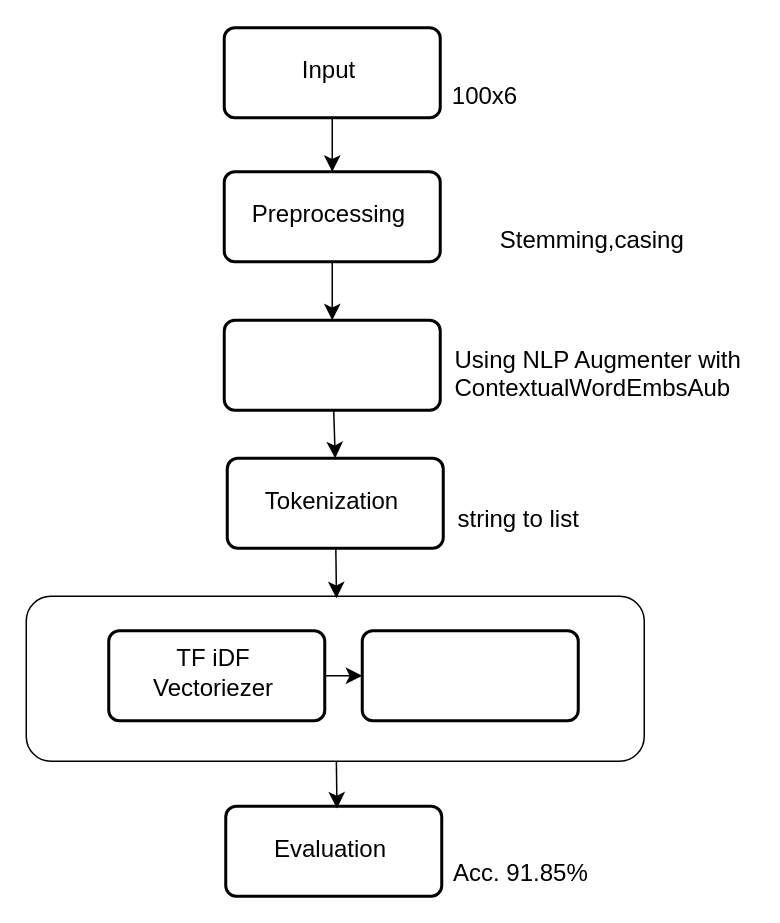
Some shapes in this 780 by 923 pixel diagram are drawn without their labels. Here are the shapes that lost their labels. From the top down, the centre of each, then its label:
At point 331,364: "Data Augmentation".
At point 469,675: "Multinomial Naive Bayes".
